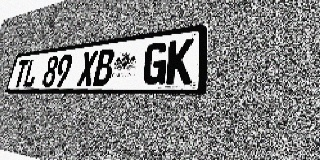8: (41, 55, 60, 87)
9: (53, 54, 74, 87)
B: (92, 48, 116, 86)
G: (142, 41, 169, 85)
K: (165, 38, 194, 85)
L: (22, 58, 40, 87)
T: (12, 59, 30, 88)
X: (76, 50, 98, 86)
